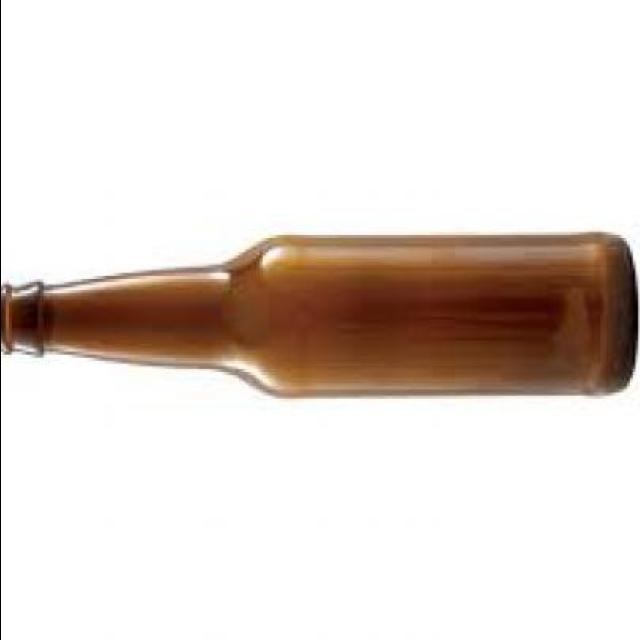kaca: (0, 232, 635, 401)
